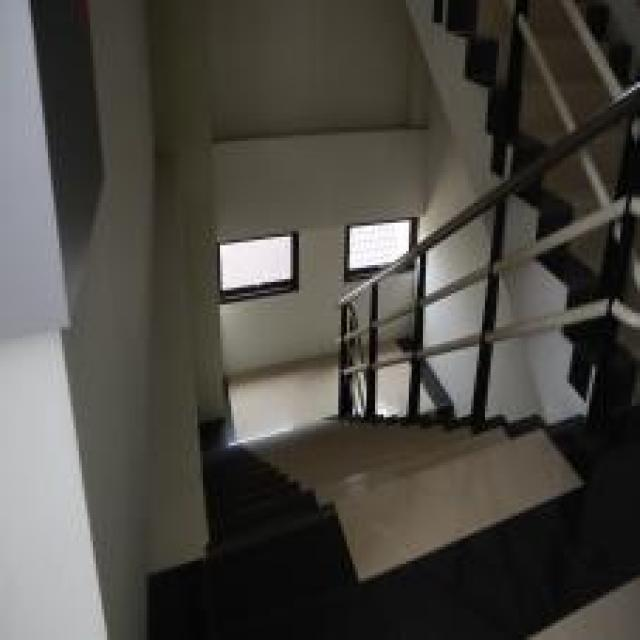downstair: (210, 413, 565, 638)
